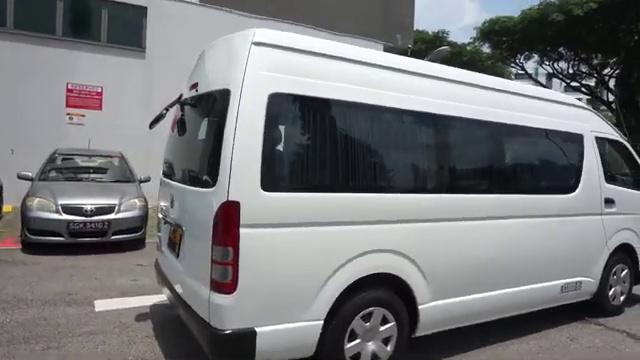van: (156, 29, 640, 360)
